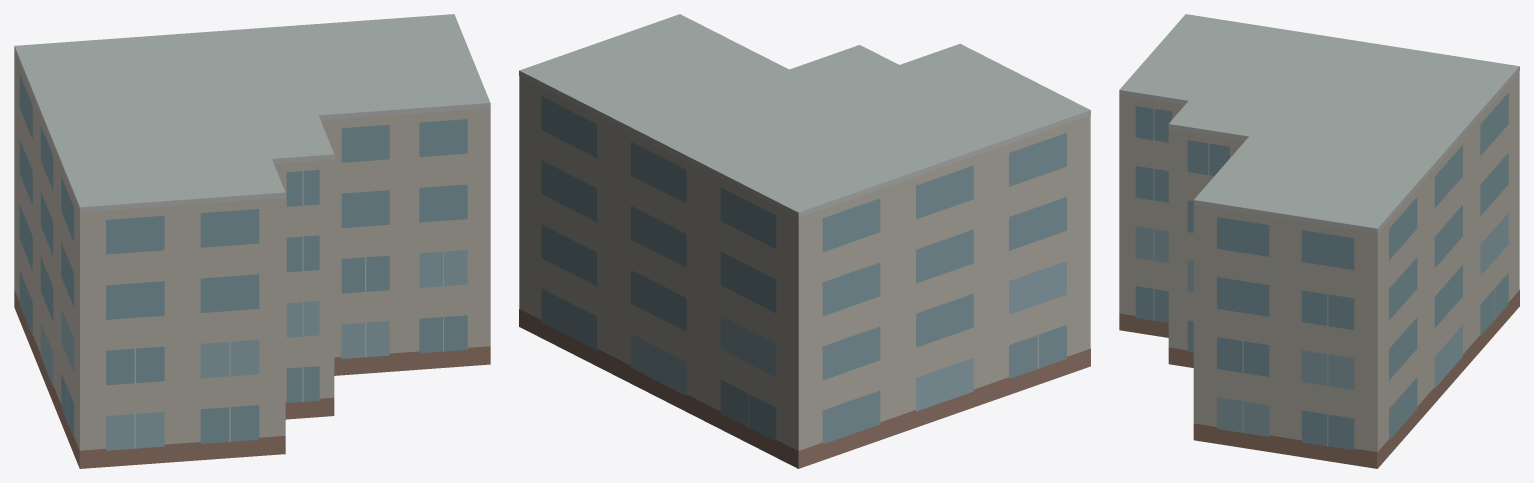
The model's file is residential-8a5a6a8d-6a76-4fcd-9b3d-4b26f2ba060b.glb.
3 views of the same model, side by side, from view 1: azimuth 30°, elevation 25°; view 2: azimuth 150°, elevation 25°; view 3: azimuth 270°, elevation 25° (orthographic). The views are drawn at different scales.
Visible parts, largest first — view 1: residential-8a5a6a8d-6a76-4fcd-9b3d-4b26f2ba060b.tmp; view 2: residential-8a5a6a8d-6a76-4fcd-9b3d-4b26f2ba060b.tmp; view 3: residential-8a5a6a8d-6a76-4fcd-9b3d-4b26f2ba060b.tmp.
Part boxes in pixels (left/top/right/bottom): residential-8a5a6a8d-6a76-4fcd-9b3d-4b26f2ba060b.tmp: left=14, top=14, right=490, bottom=468; residential-8a5a6a8d-6a76-4fcd-9b3d-4b26f2ba060b.tmp: left=519, top=14, right=1090, bottom=468; residential-8a5a6a8d-6a76-4fcd-9b3d-4b26f2ba060b.tmp: left=1119, top=14, right=1519, bottom=468.
Size of the model in its own units: 23.39 by 12.2 by 18.45.
